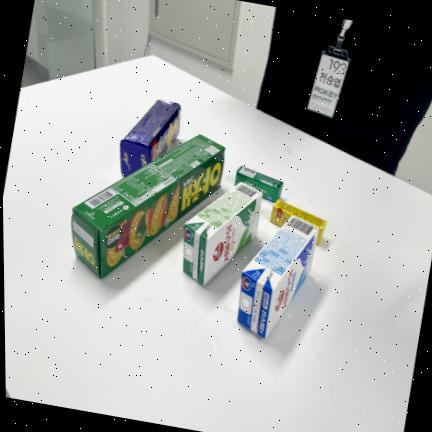cracker_ace: (120, 100, 181, 177)
cracker_vege: (71, 136, 225, 278)
gum_green: (234, 166, 283, 202)
gum_yellow: (270, 199, 326, 245)
milk_blue: (238, 217, 319, 338)
milk_green: (184, 183, 262, 285)
